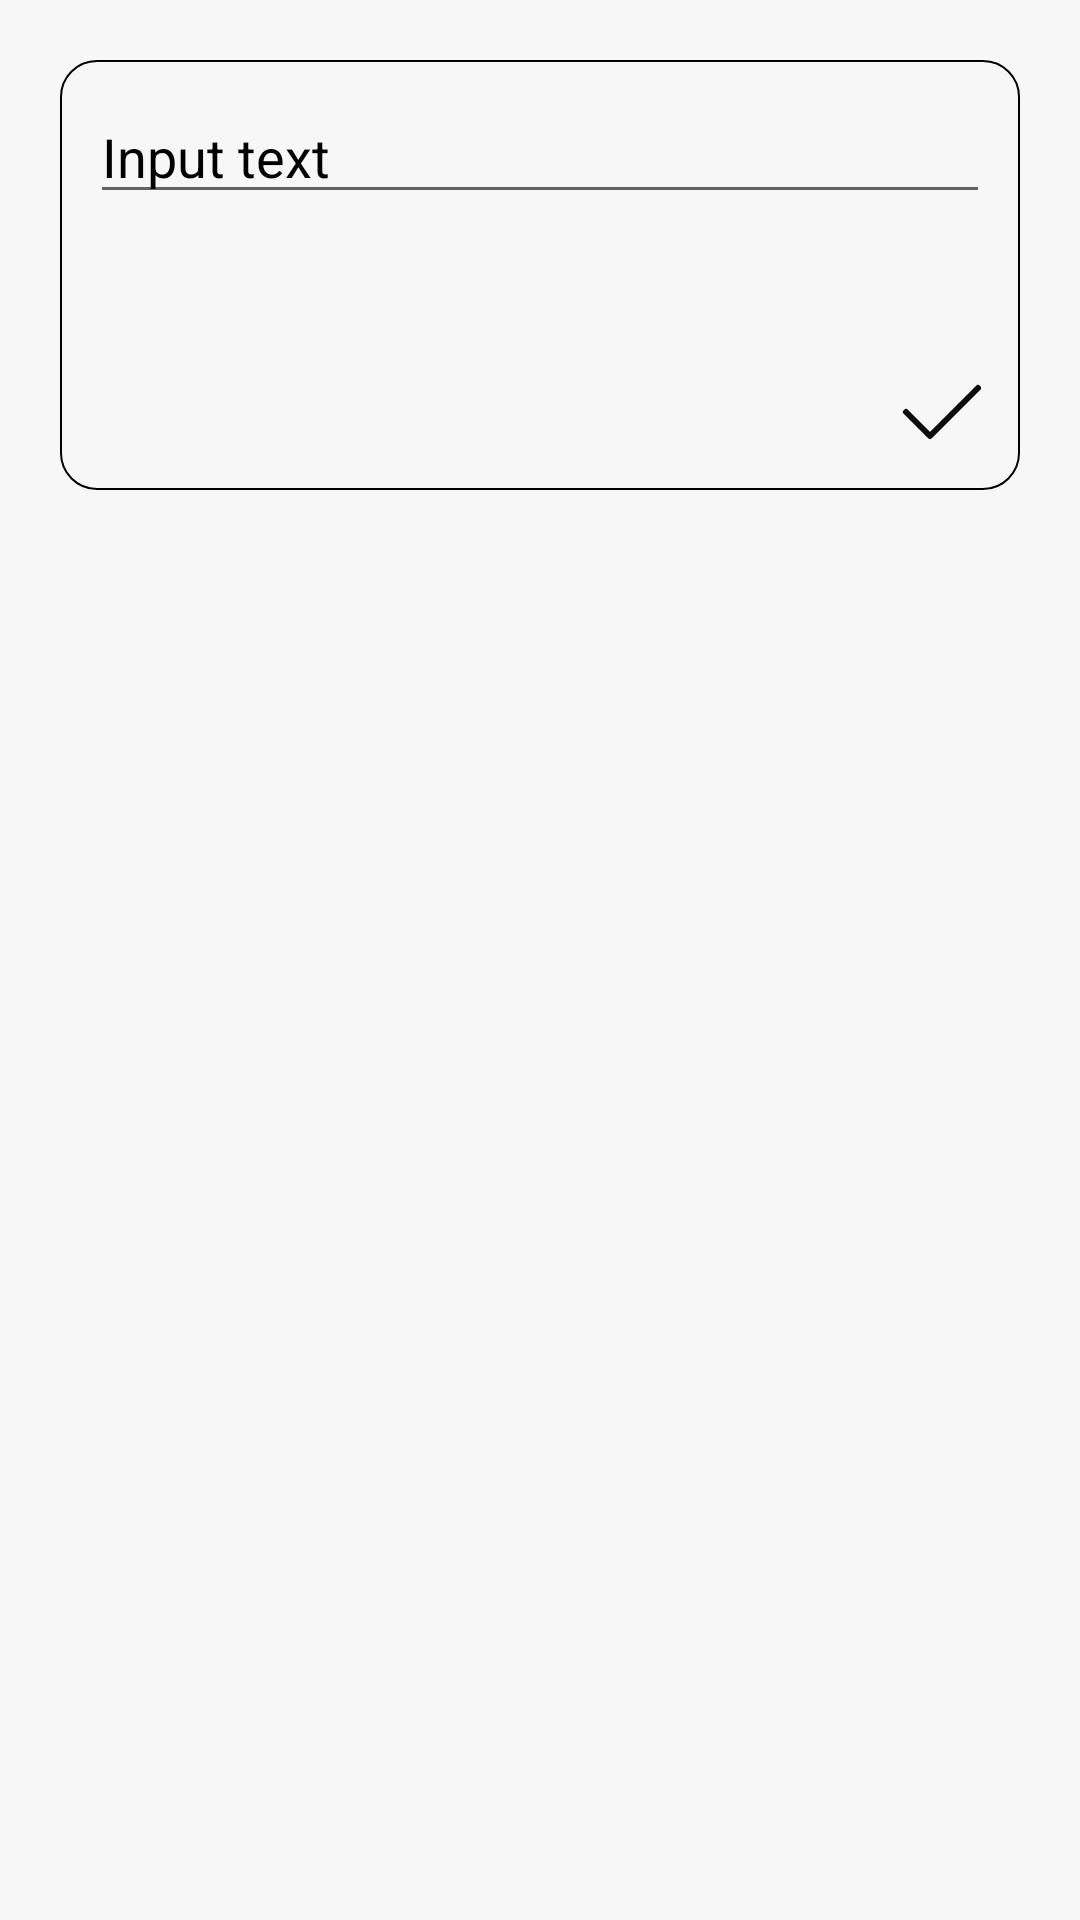

Named icons in this screenshot (1080x1920) and their centers, (x,y):
confirm: (942,411)
